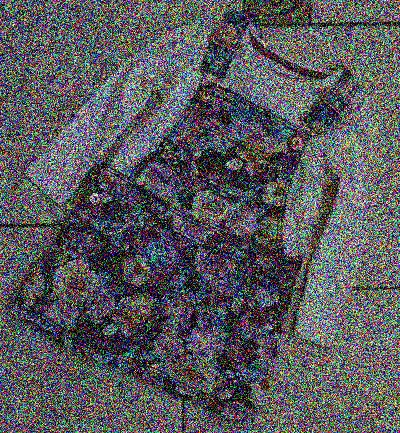Dress: (2, 29, 400, 427)
